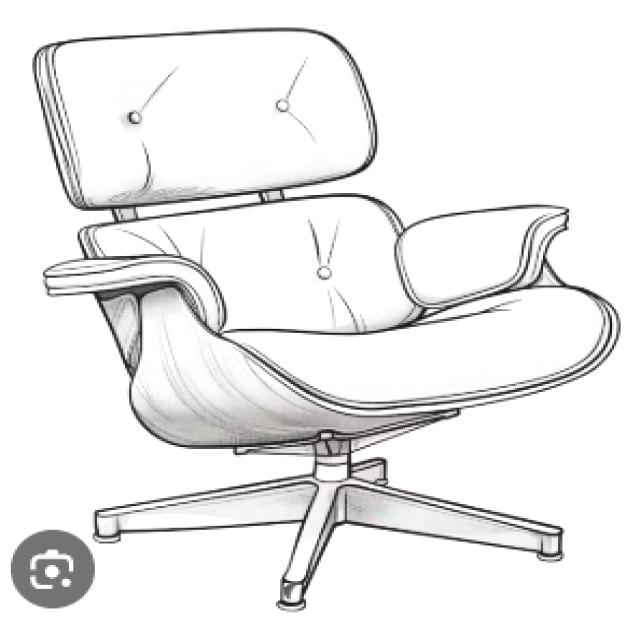Backrest: (81, 187, 430, 344)
Eames_base: (87, 464, 572, 623)
Eames_lounge: (388, 199, 573, 317), (38, 250, 234, 337)
Headrest: (25, 19, 384, 219)
Seat: (124, 281, 630, 454)
